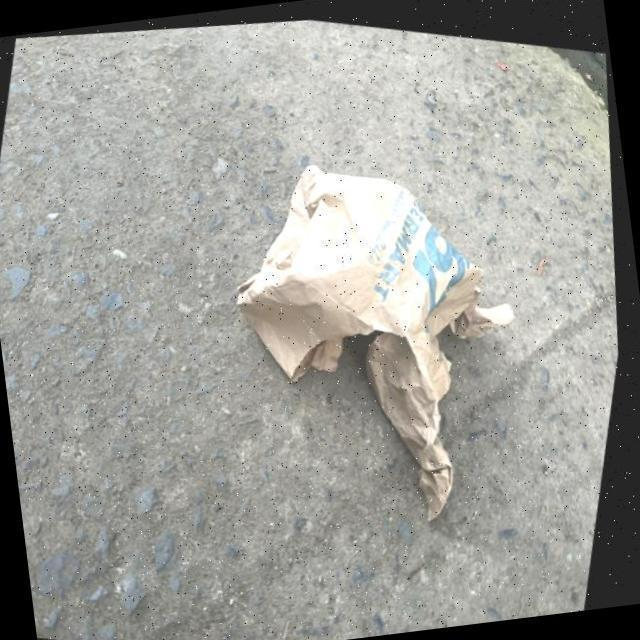Paper_Bag: (180, 122, 546, 549)
